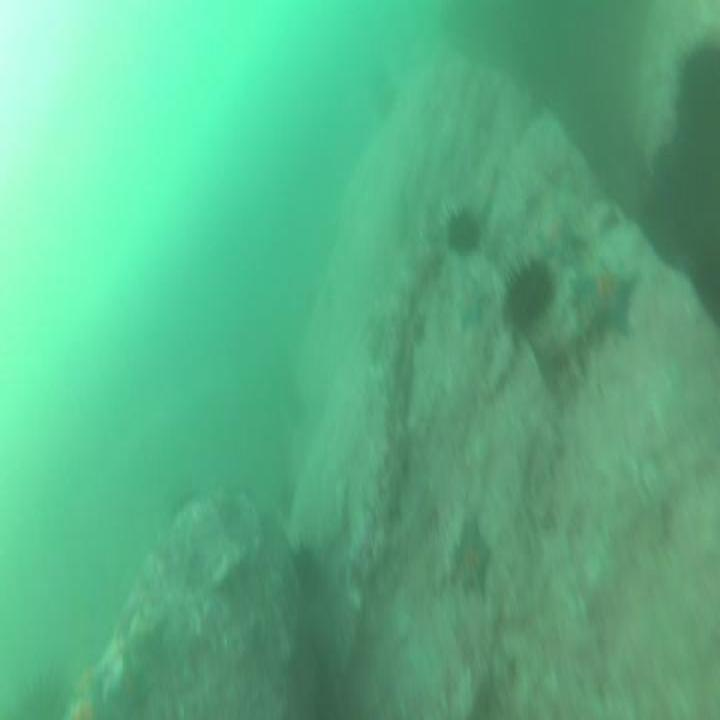echinus: (639, 144, 705, 268), (674, 41, 720, 192), (499, 251, 554, 346), (686, 222, 718, 332), (442, 201, 482, 258), (289, 539, 318, 608)
starfish: (573, 255, 642, 348), (446, 519, 492, 596), (536, 208, 591, 272), (455, 272, 489, 338)
